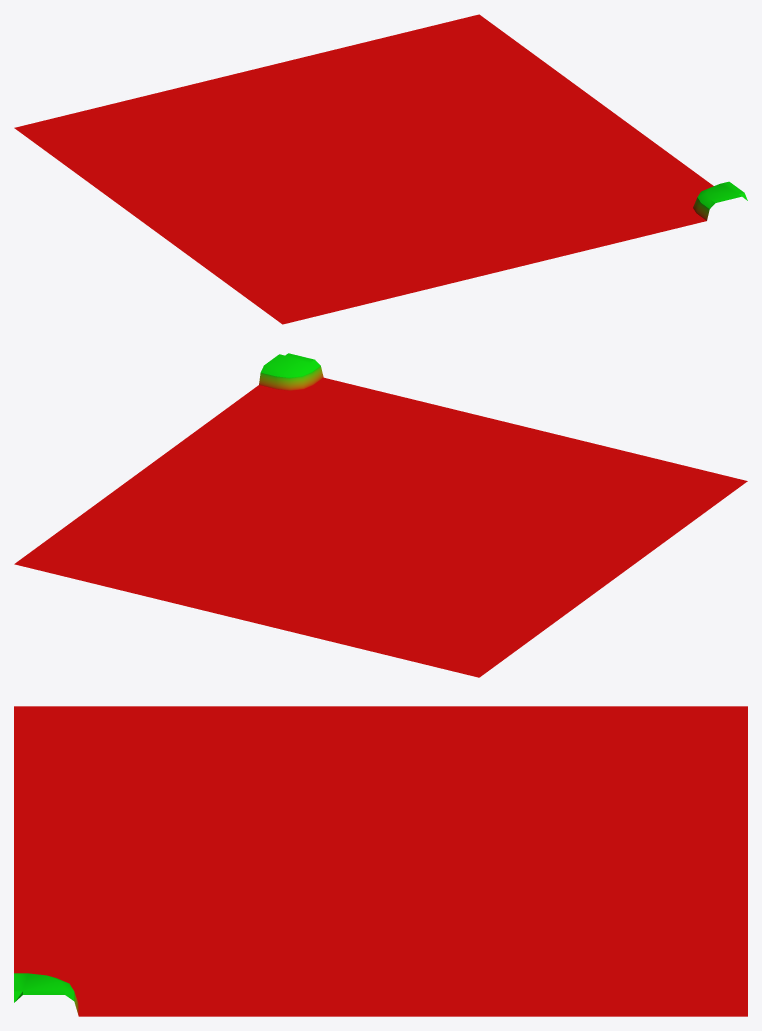
Rendered from WideRoadB_InnerCorner.fbx.
3 renders of one model, top to bottom at view 1: azimuth 30°, elevation 25°; view 2: azimuth 150°, elevation 25°; view 3: azimuth 270°, elevation 25°, orthographic. The views are drawn at different scales.
Parts seen in each view (by area): view 1: WideRoadB_InnerCorner; view 2: WideRoadB_InnerCorner; view 3: WideRoadB_InnerCorner.
Boxes of the visible parts, x1,y1,x2,y2 form: WideRoadB_InnerCorner: (14, 14, 747, 324); WideRoadB_InnerCorner: (14, 353, 747, 677); WideRoadB_InnerCorner: (14, 706, 747, 1016).
Size of the model in its own units: 2 by 2 by 0.065.
